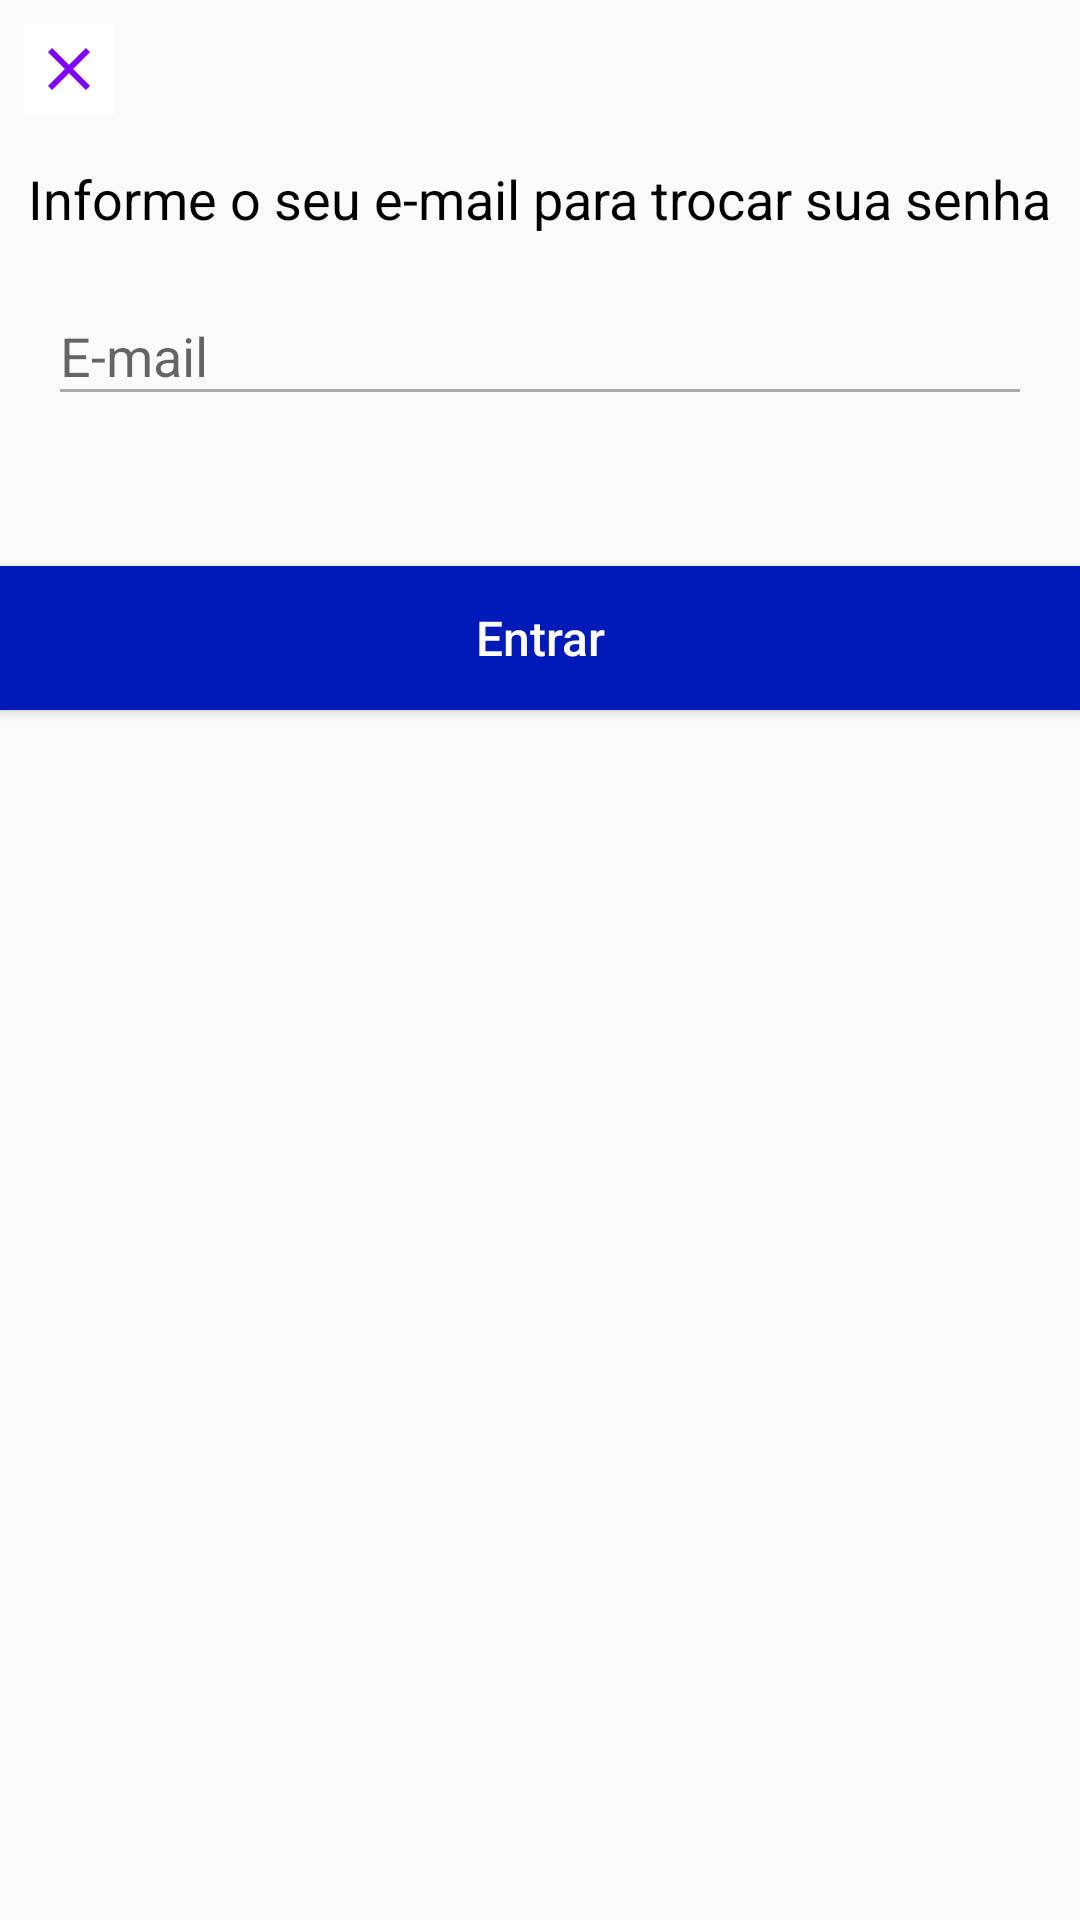

Icons on this 1080w x 1920h Android screen, each with its box as {"x1": x1, "y1": y1, "x2": x2, "y2": y2}:
close: {"x1": 48, "y1": 48, "x2": 90, "y2": 90}
